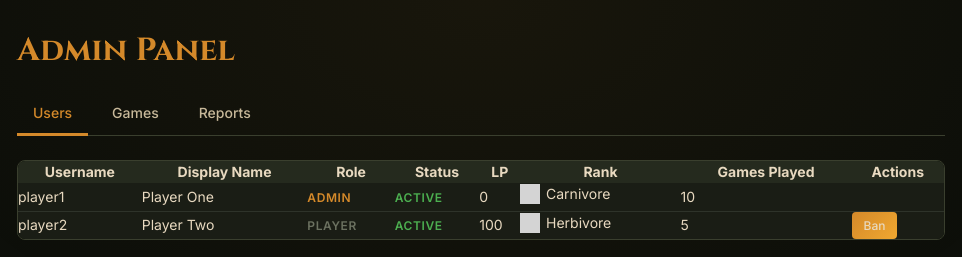
AdminPage › switches to games tab
The image size is (962, 257).
Expected: the text "Player One" is shown, [142, 183, 307, 211]
Click the button "Games": (135, 115) [96, 94, 175, 136]
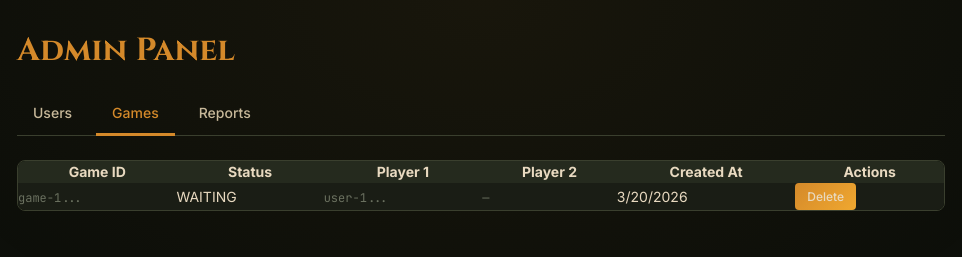
Expected: the text "WAITING" is shown, [176, 183, 324, 210]
